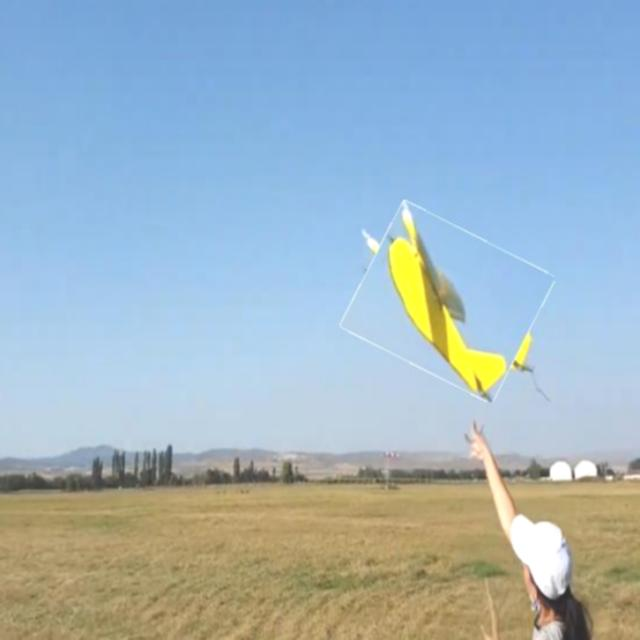plane: (342, 198, 556, 404)
